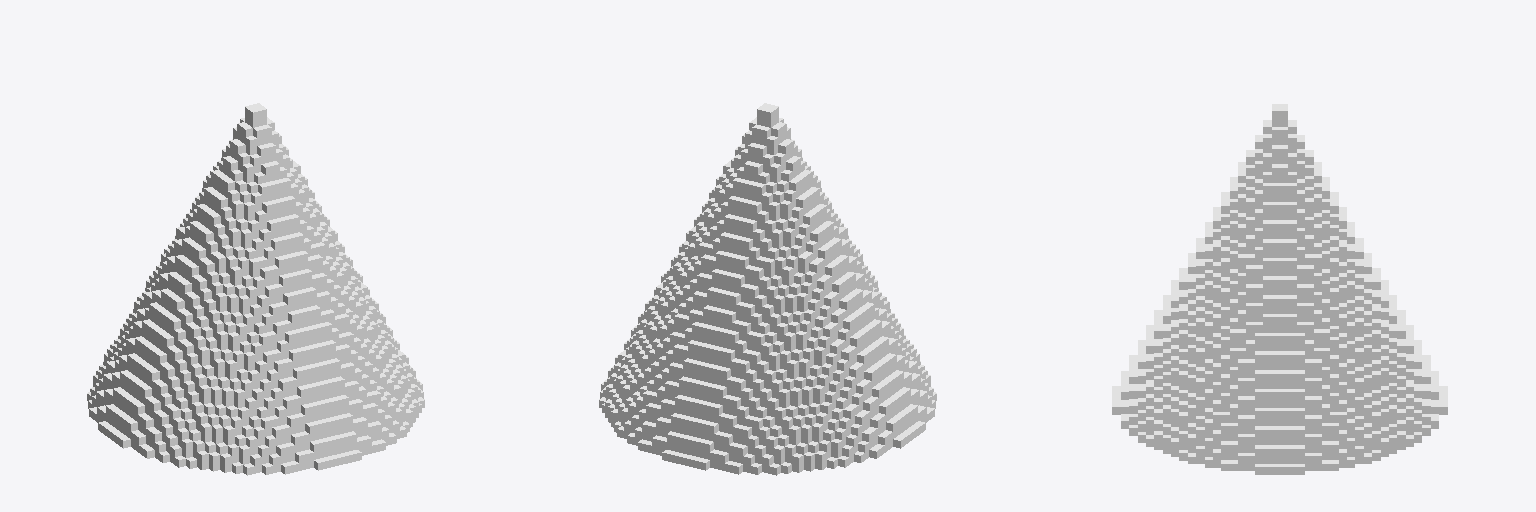
Rendered from wtfGun.obj.
3 views of the same model, side by side, from view 1: azimuth 30°, elevation 25°; view 2: azimuth 150°, elevation 25°; view 3: azimuth 270°, elevation 25° (orthographic).
Visible parts, largest first — view 1: object 1; view 2: object 1; view 3: object 1.
Part boxes in pixels (left/top/right/bottom): object 1: left=87, top=103, right=424, bottom=475; object 1: left=599, top=103, right=936, bottom=475; object 1: left=1112, top=104, right=1447, bottom=474.
Bounding box in the file's own units: 4 × 3.9 × 4.